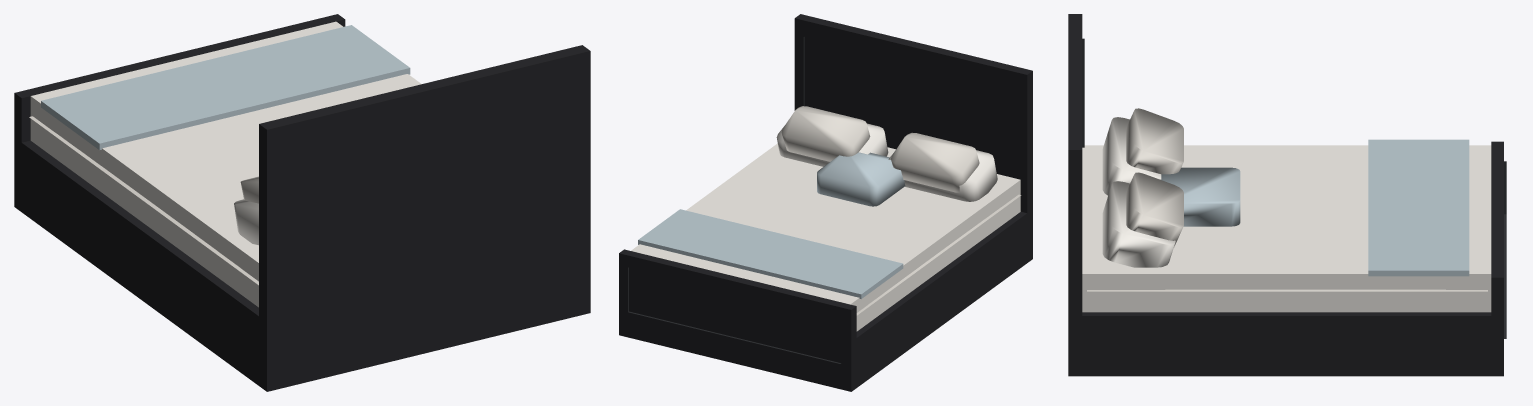
The model's file is guest_bed.glb.
3 views of the same model, side by side, from view 1: azimuth 30°, elevation 25°; view 2: azimuth 150°, elevation 25°; view 3: azimuth 270°, elevation 25° (orthographic). The views are drawn at different scales.
Visible parts, largest first — view 1: root; view 2: root; view 3: root.
Boxes of the visible parts, x1,y1,x2,y2 form: root: [14, 14, 590, 391]; root: [619, 14, 1032, 391]; root: [1068, 14, 1506, 376].
Bounding box in the file's own units: 1.93 × 1.2 × 2.21.
